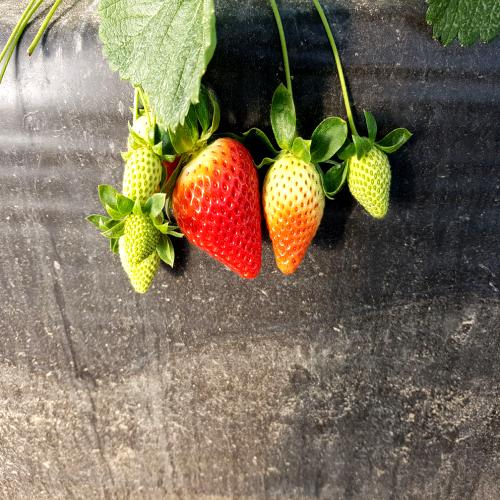partially-ripe: (264, 139, 329, 288)
ripe: (168, 140, 262, 281)
